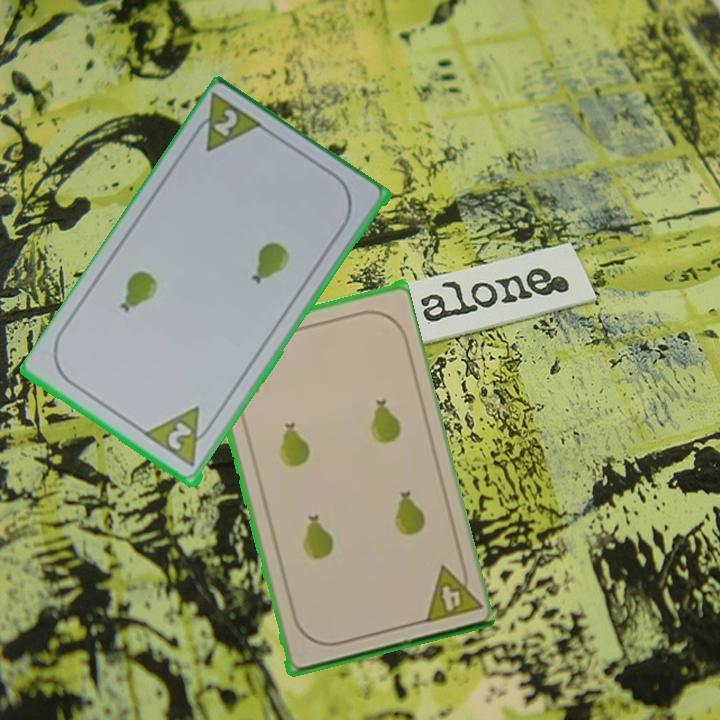2p: (186, 90, 268, 156), (163, 418, 196, 454)
4p: (417, 556, 482, 626)
